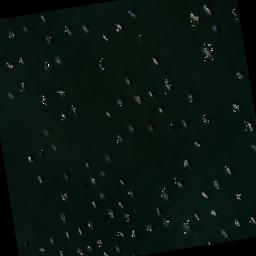boat: (200, 43, 214, 62), (244, 118, 256, 136), (96, 57, 106, 74), (190, 10, 200, 26), (182, 218, 191, 234), (128, 10, 138, 24), (202, 2, 212, 16), (163, 79, 172, 94), (113, 19, 123, 32), (151, 54, 160, 68), (160, 188, 169, 202), (112, 242, 121, 256), (230, 6, 238, 20), (235, 66, 243, 80), (232, 100, 240, 114), (60, 192, 68, 206), (105, 151, 113, 164), (234, 191, 242, 204), (249, 212, 256, 226), (17, 54, 25, 66), (46, 34, 54, 46), (6, 88, 14, 100), (201, 114, 209, 126), (36, 146, 44, 158), (174, 178, 182, 190), (180, 117, 187, 130), (143, 222, 152, 232), (115, 132, 123, 143), (40, 92, 46, 106), (225, 164, 231, 178), (163, 218, 170, 230), (37, 12, 45, 22), (42, 62, 50, 72), (64, 26, 72, 36), (82, 24, 90, 34), (211, 22, 219, 32), (57, 88, 65, 98), (50, 144, 58, 154), (212, 180, 220, 190), (184, 159, 190, 172), (5, 61, 14, 69), (250, 142, 256, 154), (146, 86, 152, 98), (36, 172, 42, 184), (84, 158, 90, 170), (76, 224, 82, 236), (48, 234, 54, 246), (55, 56, 62, 66), (137, 32, 144, 42), (221, 228, 228, 238), (100, 192, 107, 202), (76, 246, 83, 256), (19, 80, 25, 91), (102, 33, 108, 44), (70, 105, 76, 116), (124, 76, 130, 87), (146, 122, 152, 133), (129, 124, 135, 135), (62, 170, 68, 181), (100, 167, 106, 178), (118, 200, 124, 211), (60, 213, 66, 224), (130, 228, 136, 239), (134, 96, 142, 104), (192, 139, 200, 147), (8, 30, 14, 40), (22, 24, 28, 34), (60, 110, 66, 120), (105, 108, 111, 118), (116, 98, 122, 108), (187, 92, 193, 102), (168, 124, 174, 134), (44, 128, 50, 138), (28, 153, 34, 163), (90, 176, 96, 186), (128, 188, 134, 198), (201, 189, 207, 199), (108, 208, 114, 218), (38, 242, 44, 252), (57, 246, 63, 256), (64, 232, 71, 240), (86, 243, 92, 252), (125, 214, 130, 224), (116, 231, 123, 238), (234, 218, 240, 226), (88, 222, 94, 230), (96, 240, 102, 248), (119, 177, 124, 186), (101, 250, 108, 256), (157, 106, 162, 114), (210, 210, 216, 216), (194, 214, 200, 220), (90, 198, 94, 207), (157, 208, 160, 216)
